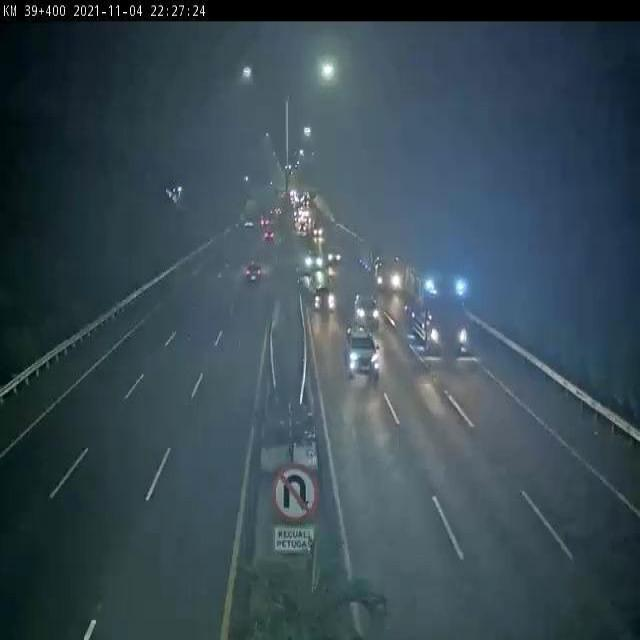car: (343, 327, 380, 377), (354, 291, 381, 324), (312, 282, 334, 310), (242, 267, 263, 289)
mid truck: (305, 248, 323, 271)
truck-m-: (406, 265, 470, 356)
truck-xl-: (357, 244, 403, 296)
